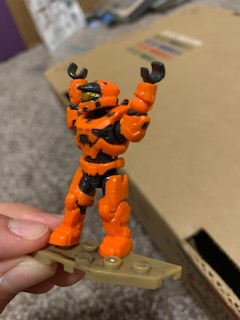spartan: (47, 59, 167, 261)
up: (62, 59, 165, 161)
